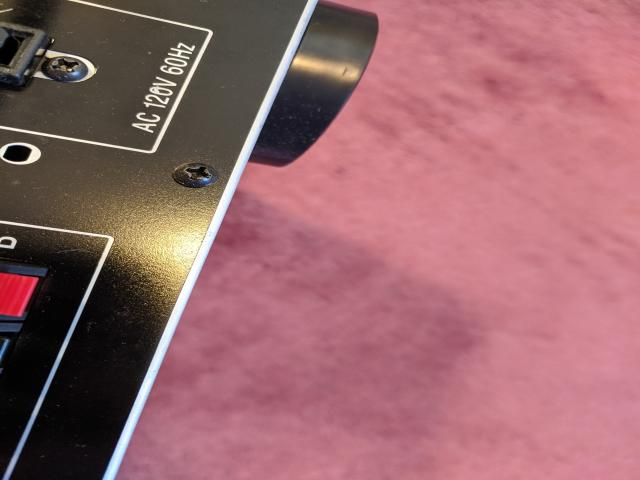CRS: (174, 162, 222, 188), (42, 55, 90, 80)
